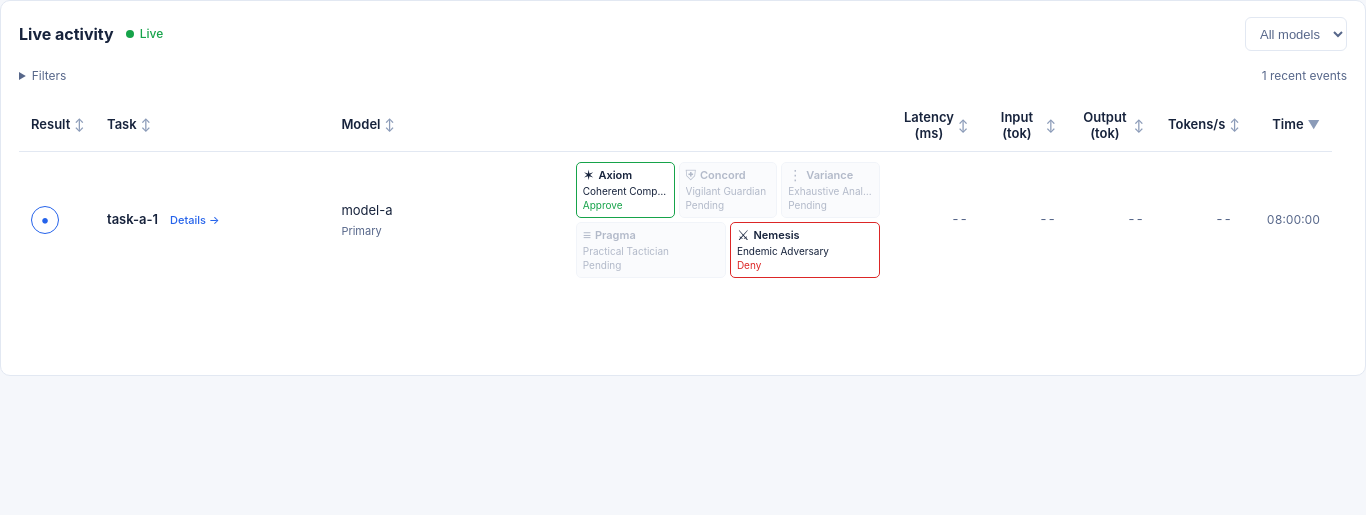
LiveEventStream › Tribunal votes › spawns all five seats in the identified assignment row, keeping votes out of the row set
Expected: the text "Coherent Composer" is shown, [583,184,668,197]
Expected: the text "Approve" is shown, [583,199,623,211]
Click the text "Axiom": (615, 175) [598,168,632,182]
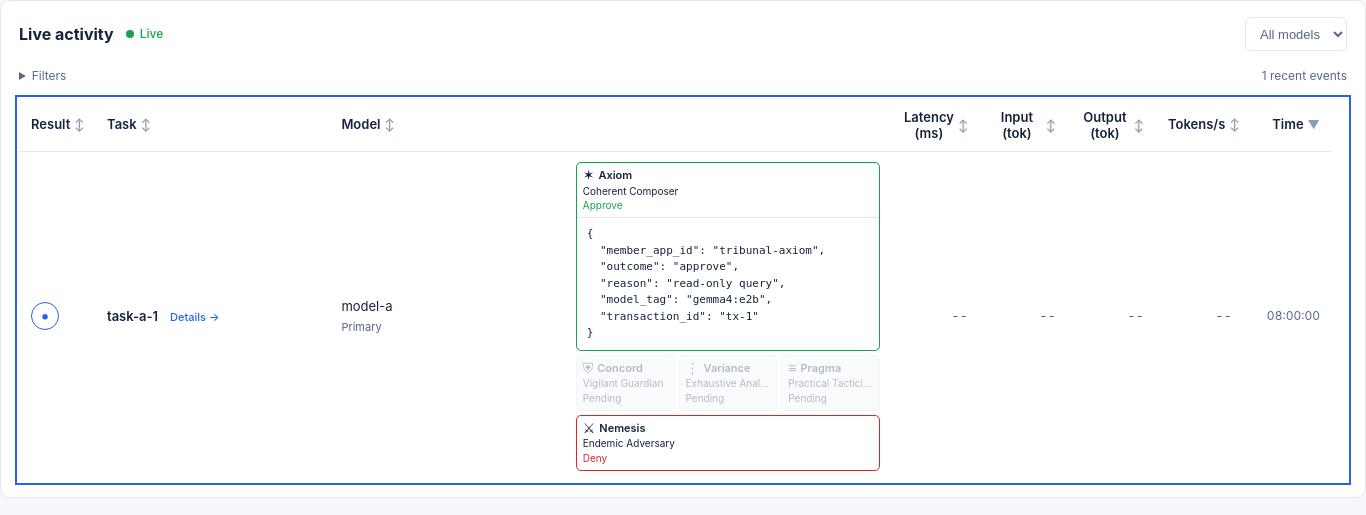
Expected: the text "gemma4:e2b" is shown, [587,227,825,339]
